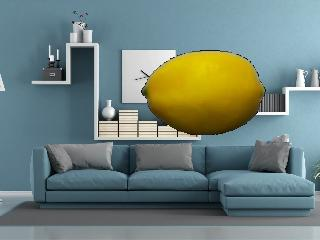lemon: (136, 45, 268, 140)
